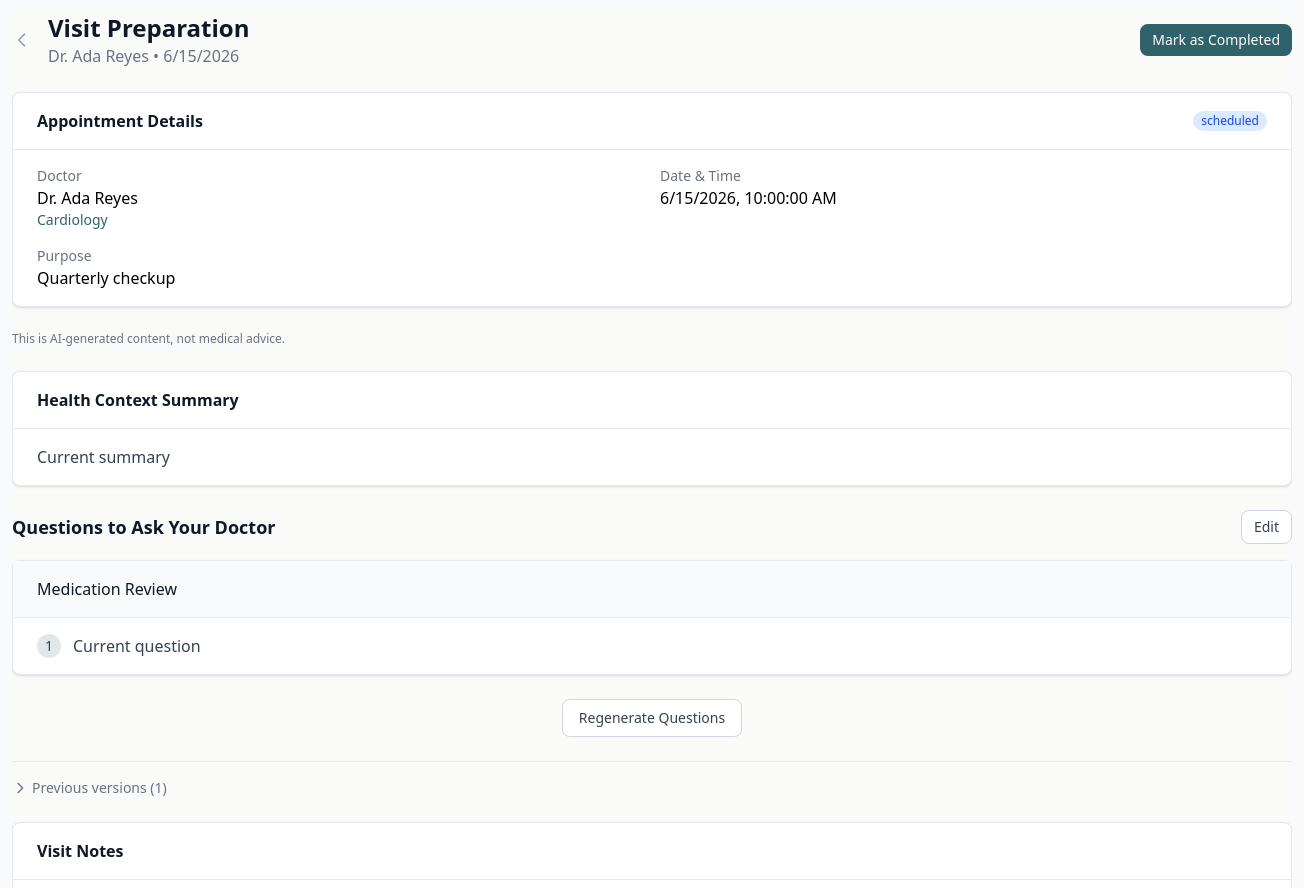
Test: VisitPrep previous-versions disclosure › offers no way to restore or overwrite from the history
The image size is (1304, 888).
Click the button "Previous versions (1)". click: (89, 788)
box: [12, 778, 167, 798]
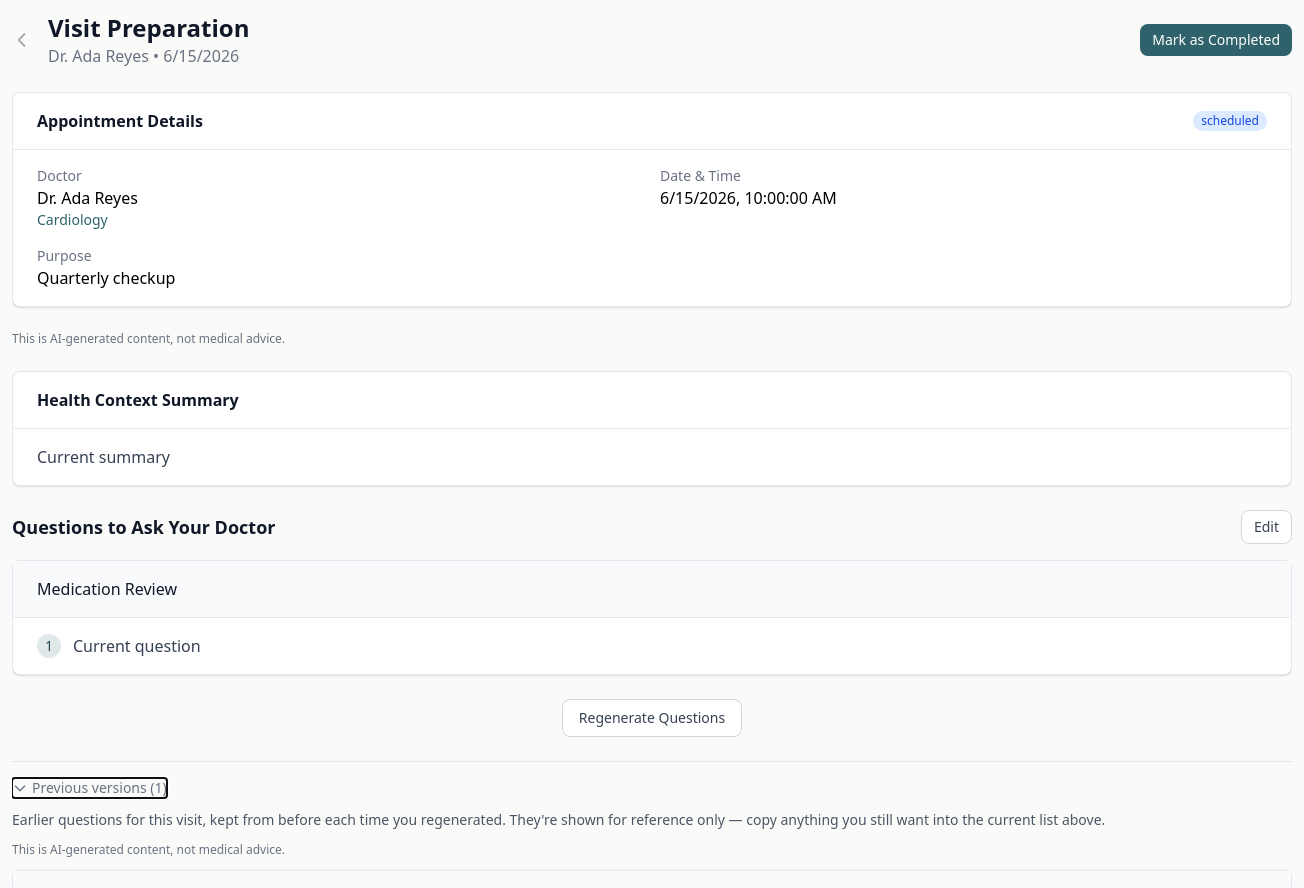
Expected: the text "reference only" is shown, [12, 810, 1105, 829]
